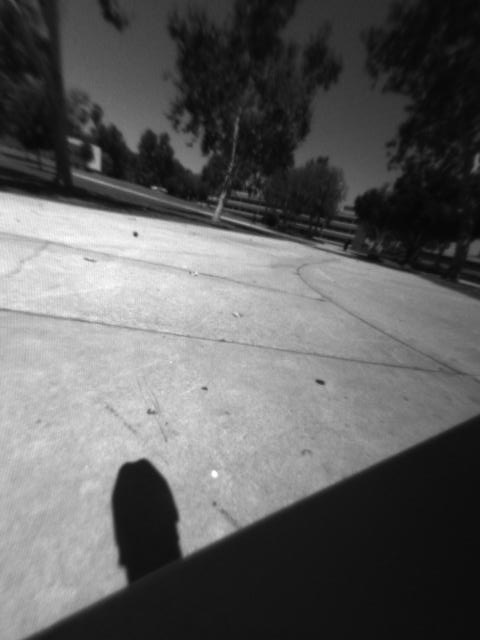dogtoy: (125, 225, 148, 246)
